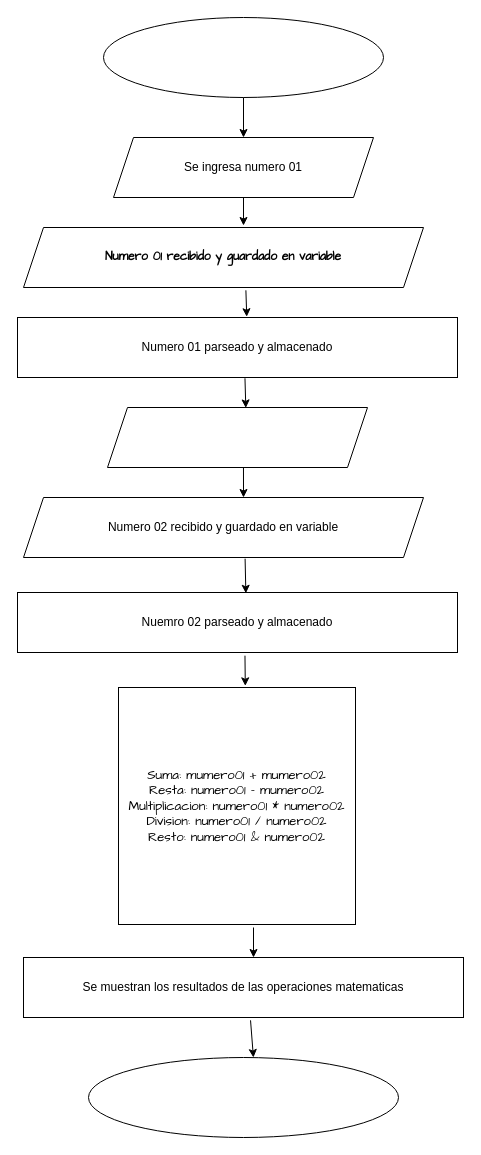
Image size: 481x1155. Some labels were removed from this diagram. Each missing label, with the centre of its shape:
"Fin algoritmo" belongs at point (243, 1097).
"Inicio Algoritmo" belongs at point (243, 57).
"Se ingresa numero 02" belongs at point (237, 437).
